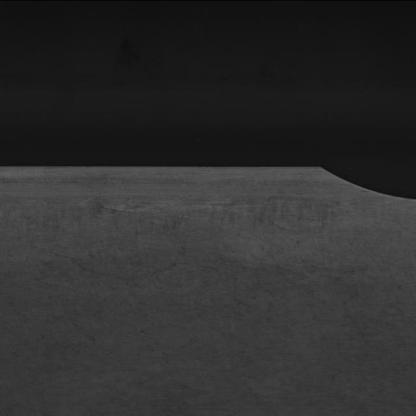crescent_gap: (294, 159, 416, 206)
